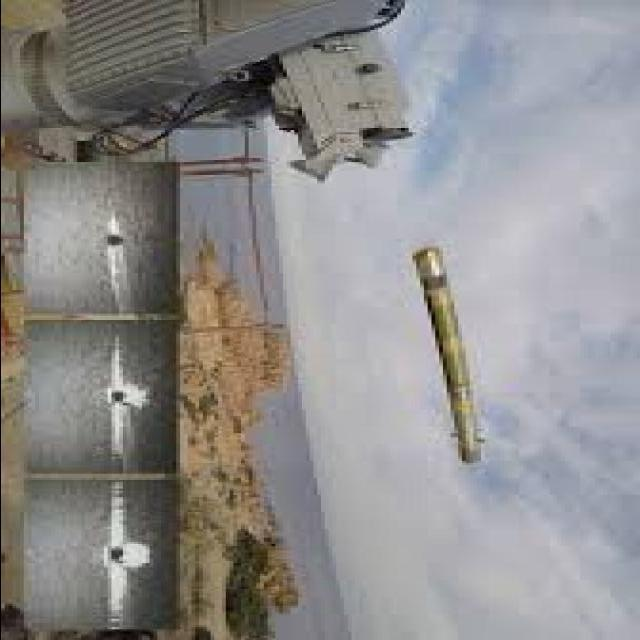Missile: (411, 230, 486, 477)
